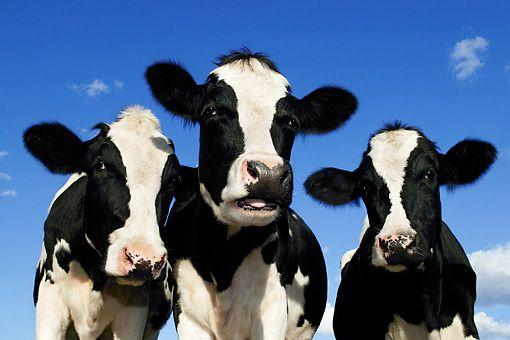cow: (144, 56, 358, 252)
